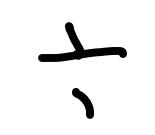div: (38, 23, 131, 119)
